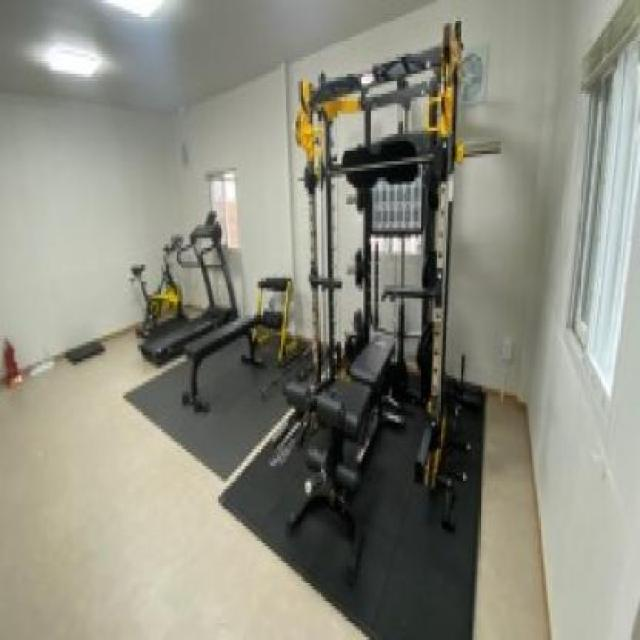smith machine: (291, 18, 498, 490)
